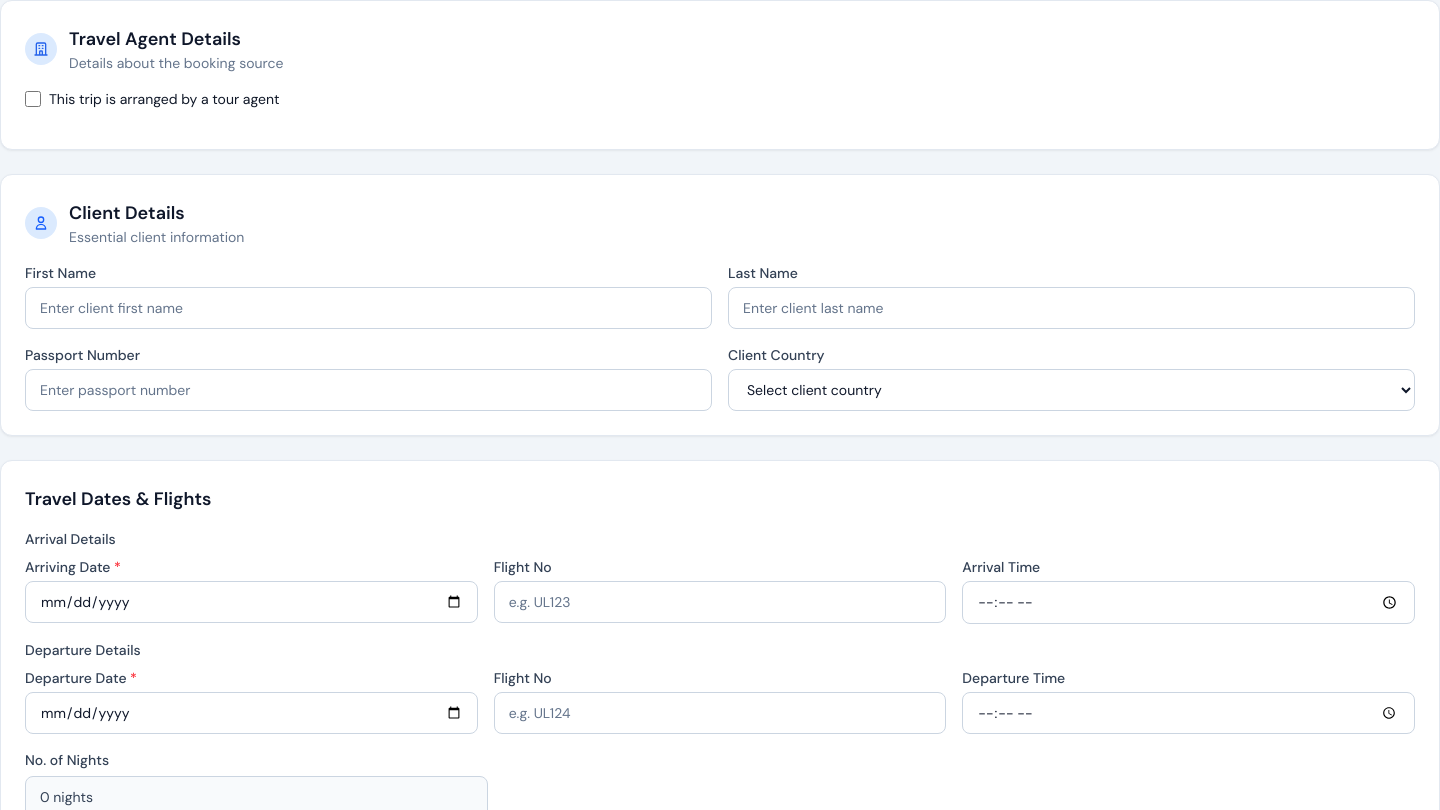
Test: IndividualInquiryForm › reveals agent fields when agent toggle is enabled
Click the checkbox labelled "This trip is arranged by a tour agent" at x=33, y=99, box [25,91,41,107]
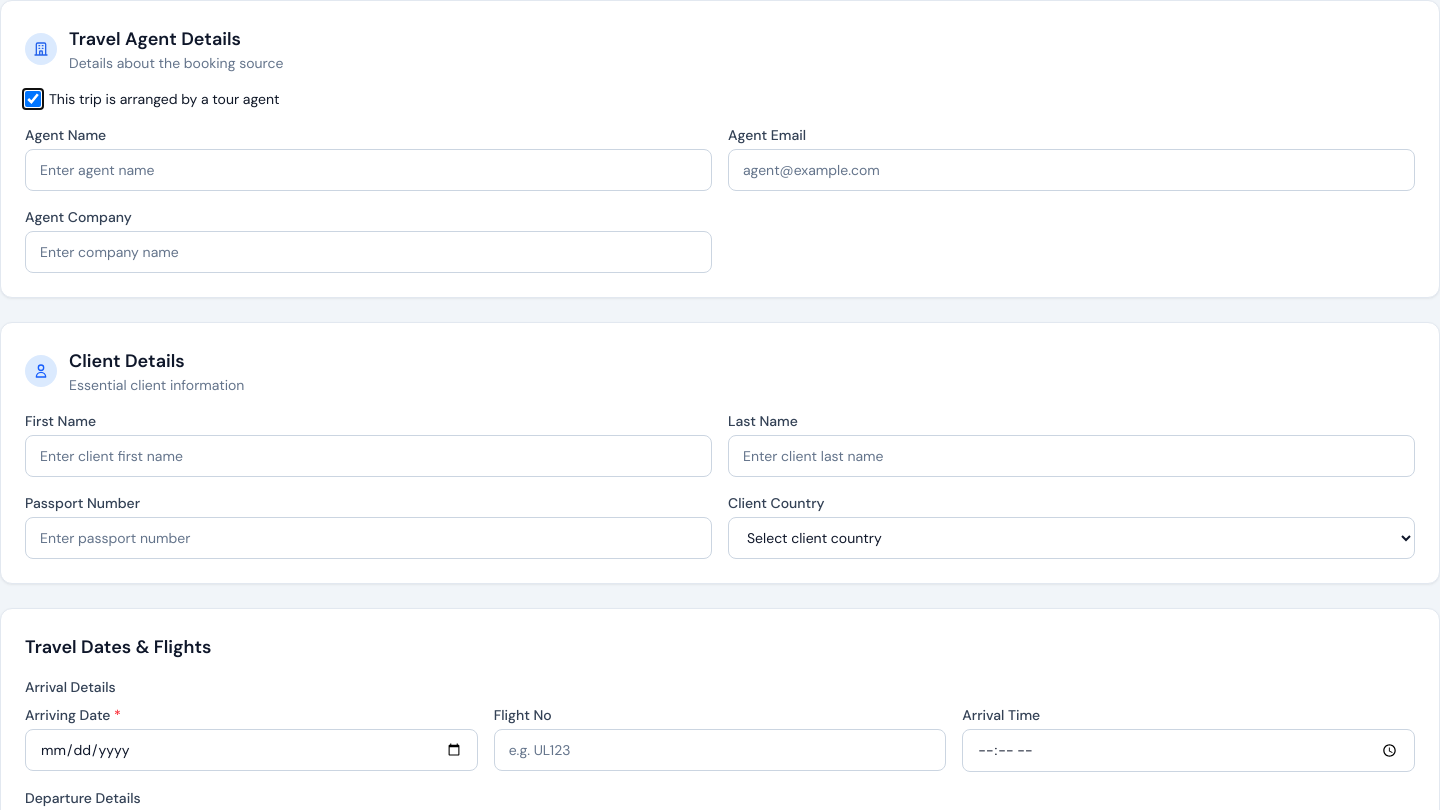
Now the text "Agent Name" is shown, box [25,126,106,144]
Now the text "Agent Email" is shown, box [728,126,806,144]
